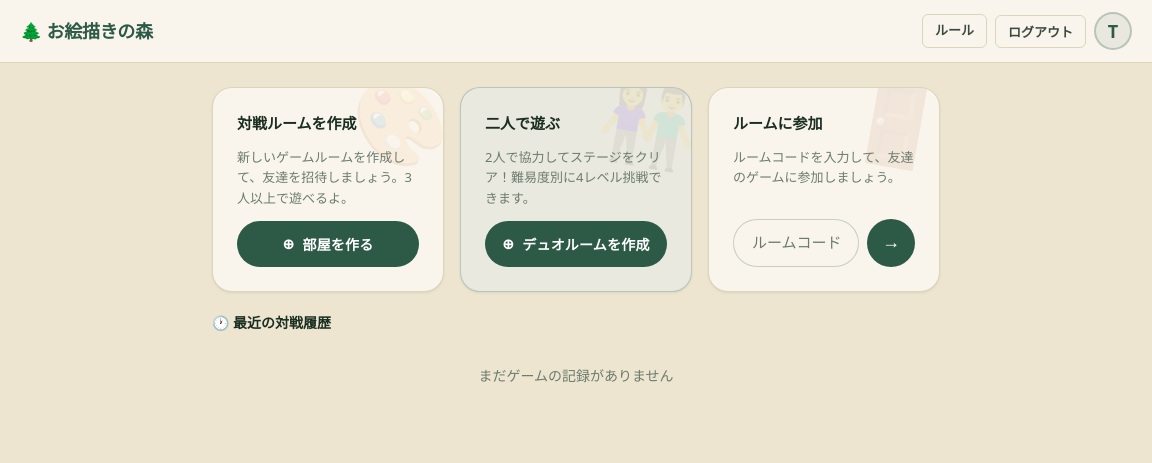
Scenario: Lobby ページ（ログイン済み） › ルーム作成失敗でエラーメッセージが表示される
Click the button "⊕ 部屋を作る".
click(328, 244)  # box 237,221 -> 419,267
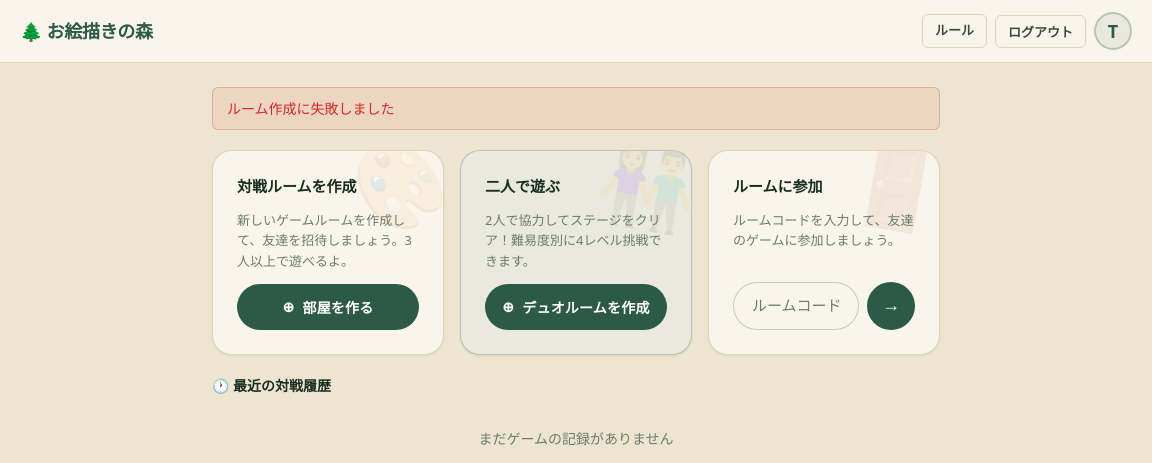
expect the message reads "ルーム作成に失敗しました": met, box 227,99 -> 395,118
